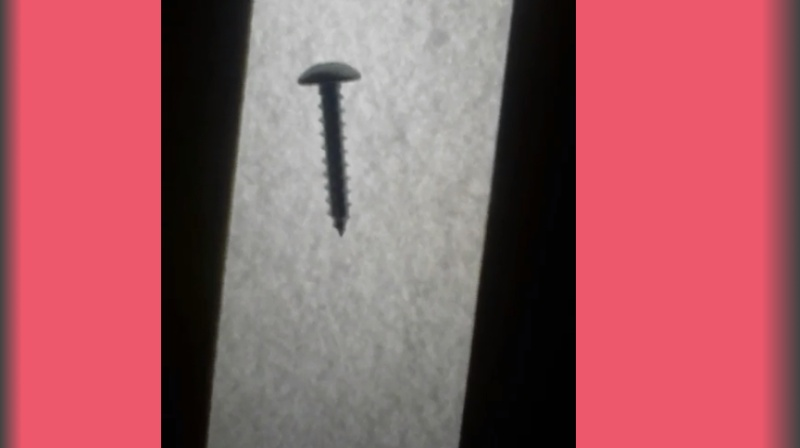S003: (294, 55, 361, 242)
